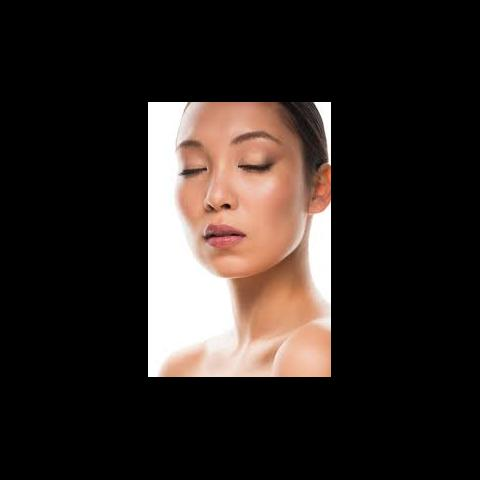closed: (172, 134, 286, 184)
